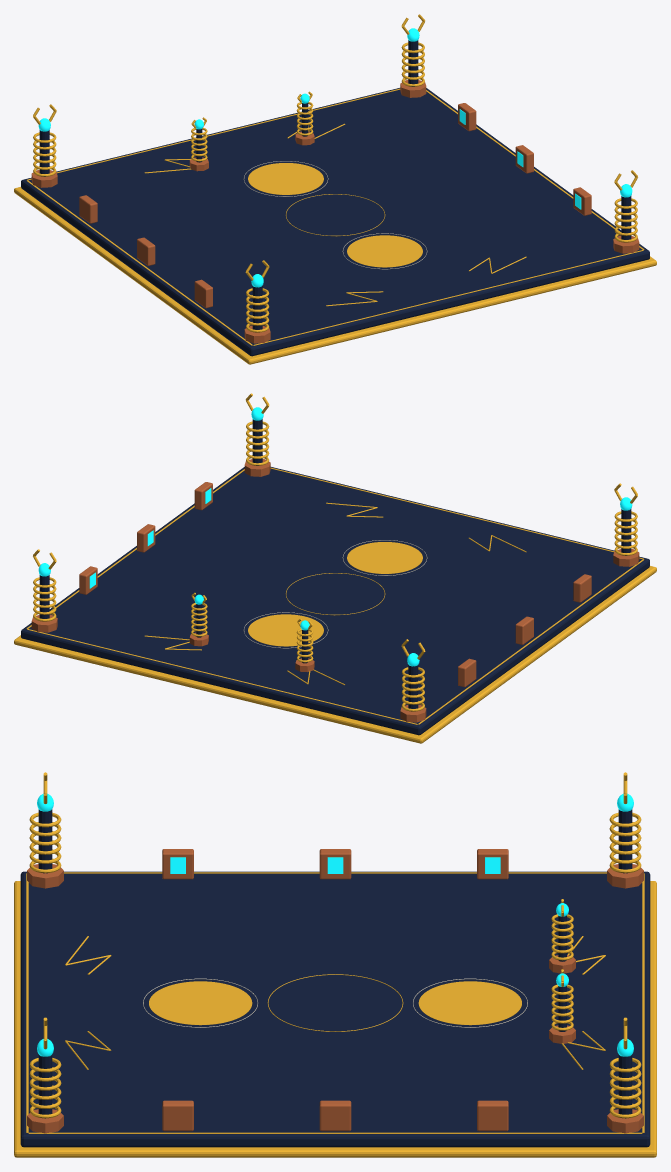
The model's file is electric.glb.
The picture shows the model from 3 angles, top to bottom: view 1: azimuth 30°, elevation 25°; view 2: azimuth 150°, elevation 25°; view 3: azimuth 270°, elevation 25°; orthographic projection. The views are drawn at different scales.
Parts seen in each view (by area): view 1: Gym_electric; view 2: Gym_electric; view 3: Gym_electric.
Part boxes in pixels (box(x1,y1,x2,y2)): Gym_electric: box(14, 14, 656, 364); Gym_electric: box(14, 393, 656, 743); Gym_electric: box(14, 772, 656, 1157).
Bounding box in the file's own units: 28.6 × 6.06 × 28.6.
